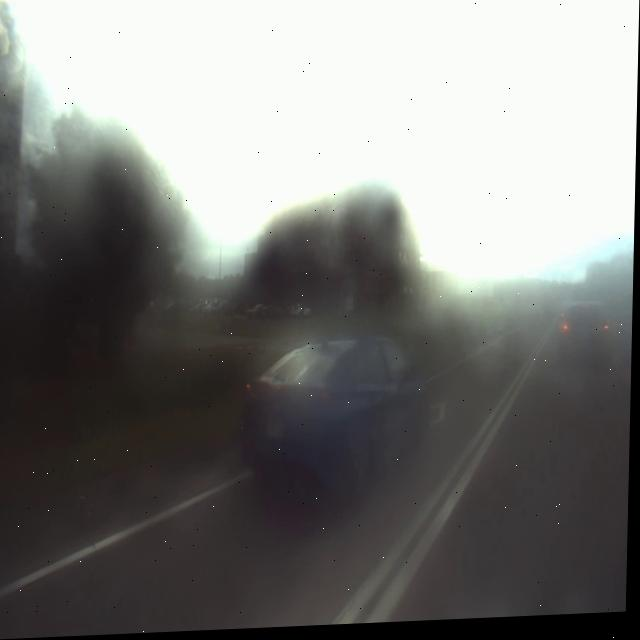car: (231, 302, 442, 509)
